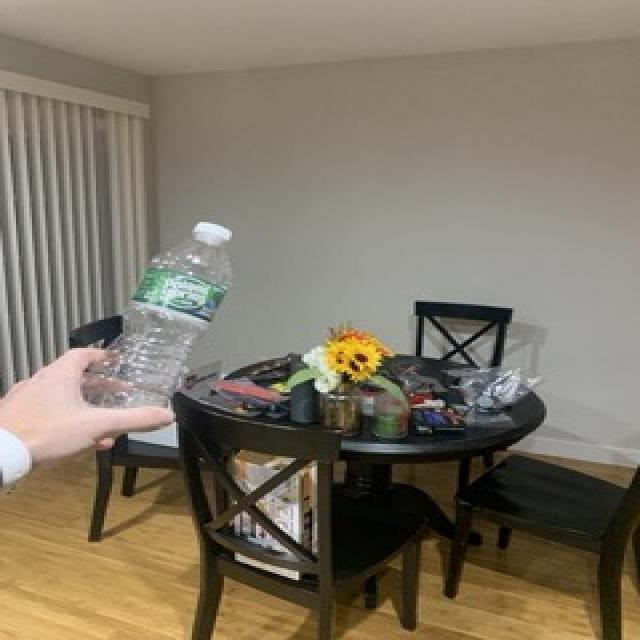water_bottle: (56, 213, 248, 431)
